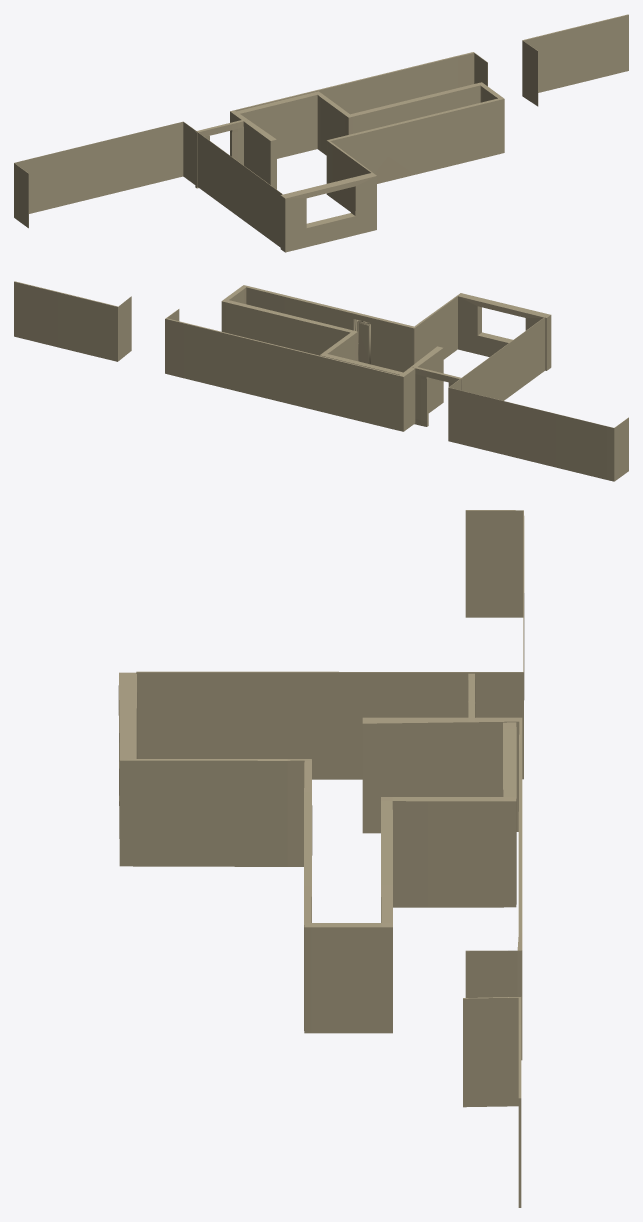
File: Walls.fbx
3 views of the same model, one above another, from view 1: azimuth 30°, elevation 25°; view 2: azimuth 150°, elevation 25°; view 3: azimuth 270°, elevation 25° (orthographic). The views are drawn at different scales.
Parts seen in each view (by area): view 1: Plane.005; view 2: Plane.005; view 3: Plane.005.
Boxes of the visible parts, x1,y1,x2,y2 form: Plane.005: (14, 14, 628, 252); Plane.005: (14, 281, 628, 481); Plane.005: (118, 510, 524, 1207).
Bounding box in the file's own units: 2784 × 251 × 813.
